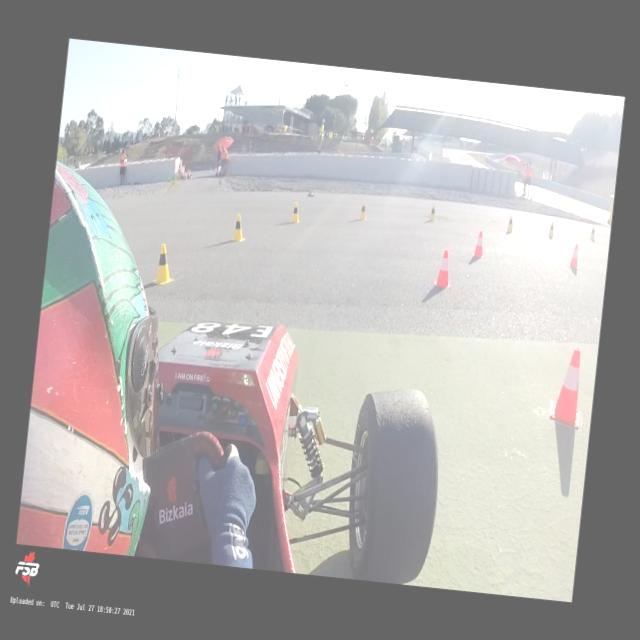orange_cone: (548, 344, 587, 428), (432, 248, 453, 288), (471, 230, 485, 258), (568, 243, 580, 267)
yellow_cone: (152, 242, 177, 286), (230, 212, 248, 242), (289, 202, 301, 224), (358, 200, 367, 220), (428, 204, 437, 222), (547, 220, 555, 238), (588, 225, 596, 240), (506, 214, 512, 232)
